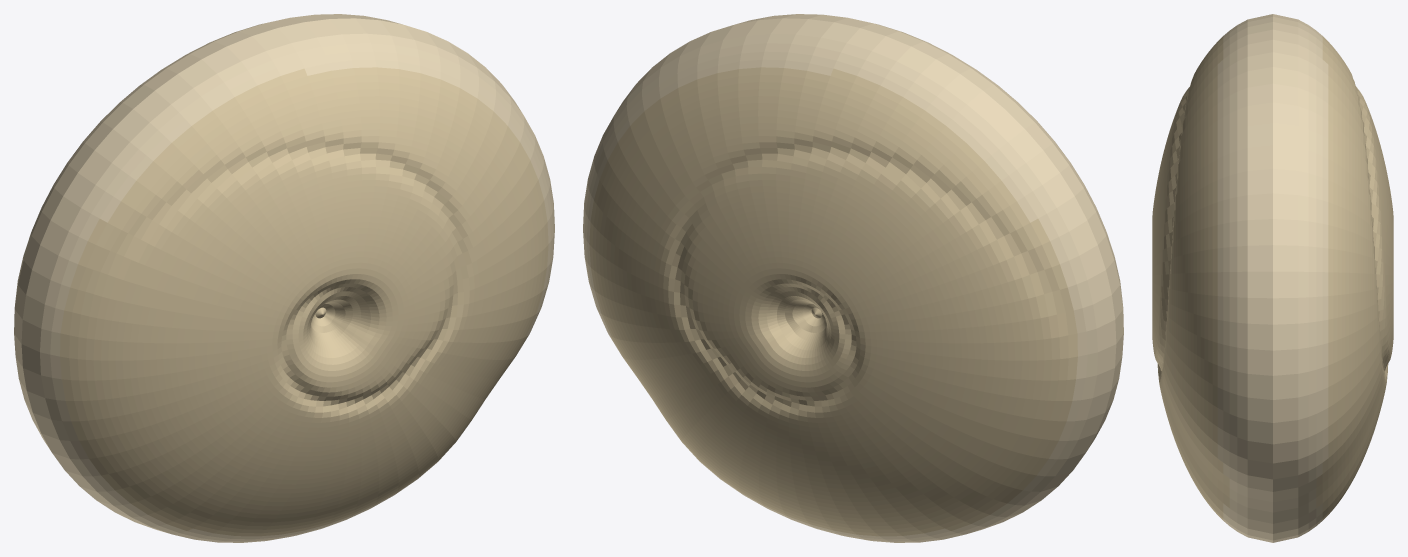
The model's file is aturia.glb.
The picture shows the model from 3 angles, left to right: view 1: azimuth 30°, elevation 25°; view 2: azimuth 150°, elevation 25°; view 3: azimuth 270°, elevation 25°; orthographic projection. The views are drawn at different scales.
Parts seen in each view (by area): view 1: inflated-involute-fossil-shell; view 2: inflated-involute-fossil-shell; view 3: inflated-involute-fossil-shell.
Part boxes in pixels (x1,y1,x2,y2): inflated-involute-fossil-shell: (14,14,554,542); inflated-involute-fossil-shell: (583,14,1123,542); inflated-involute-fossil-shell: (1152,14,1393,542).
Bounding box in the file's own units: 0.24 × 0.22 × 0.1021.
